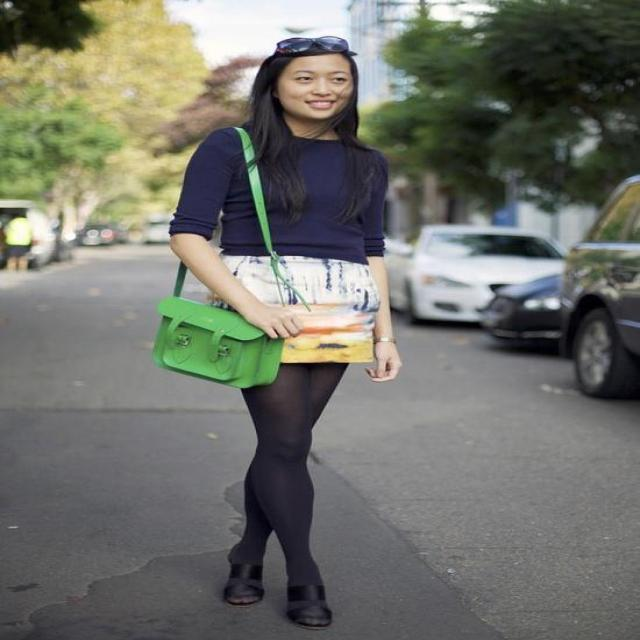Tshirt: (167, 118, 389, 266)
skirt: (200, 250, 379, 364)
